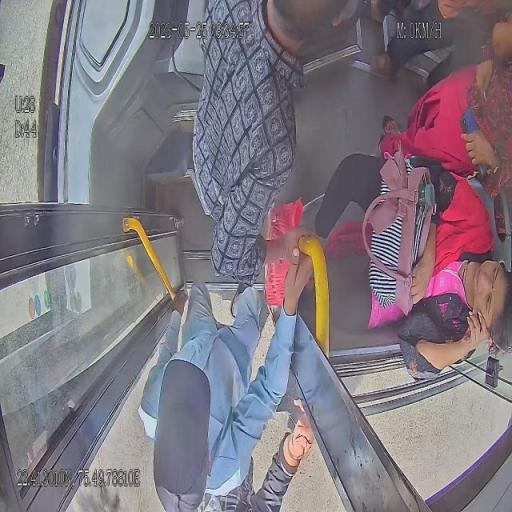persona: (191, 0, 362, 289), (138, 235, 316, 511), (306, 150, 511, 382)
